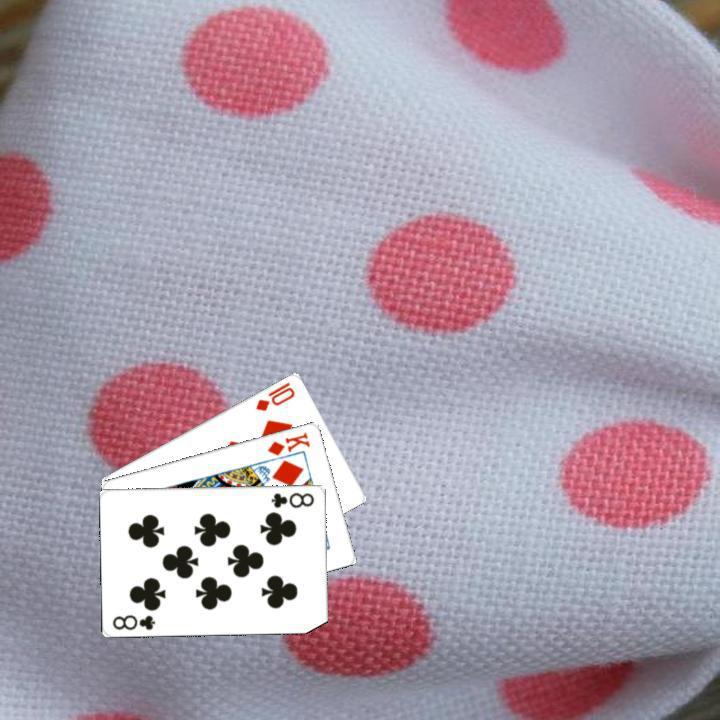10: (251, 377, 297, 413)
8: (267, 488, 316, 510), (108, 610, 157, 632)
K: (263, 428, 312, 457)
